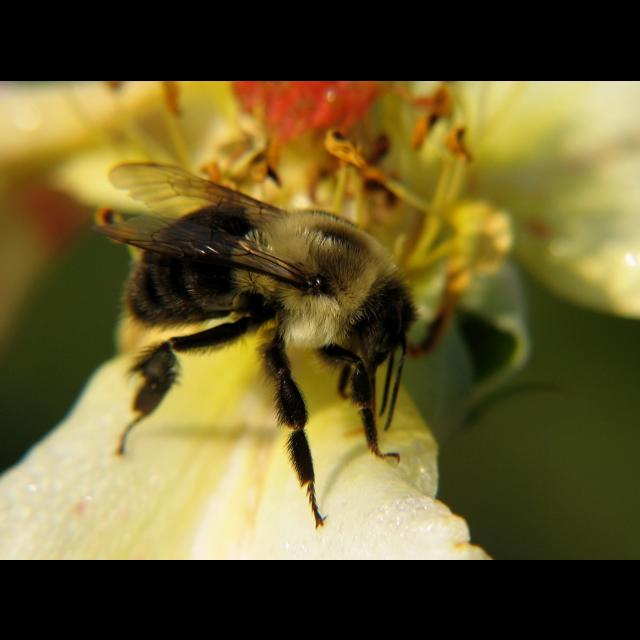Flower: (1, 80, 640, 558)
